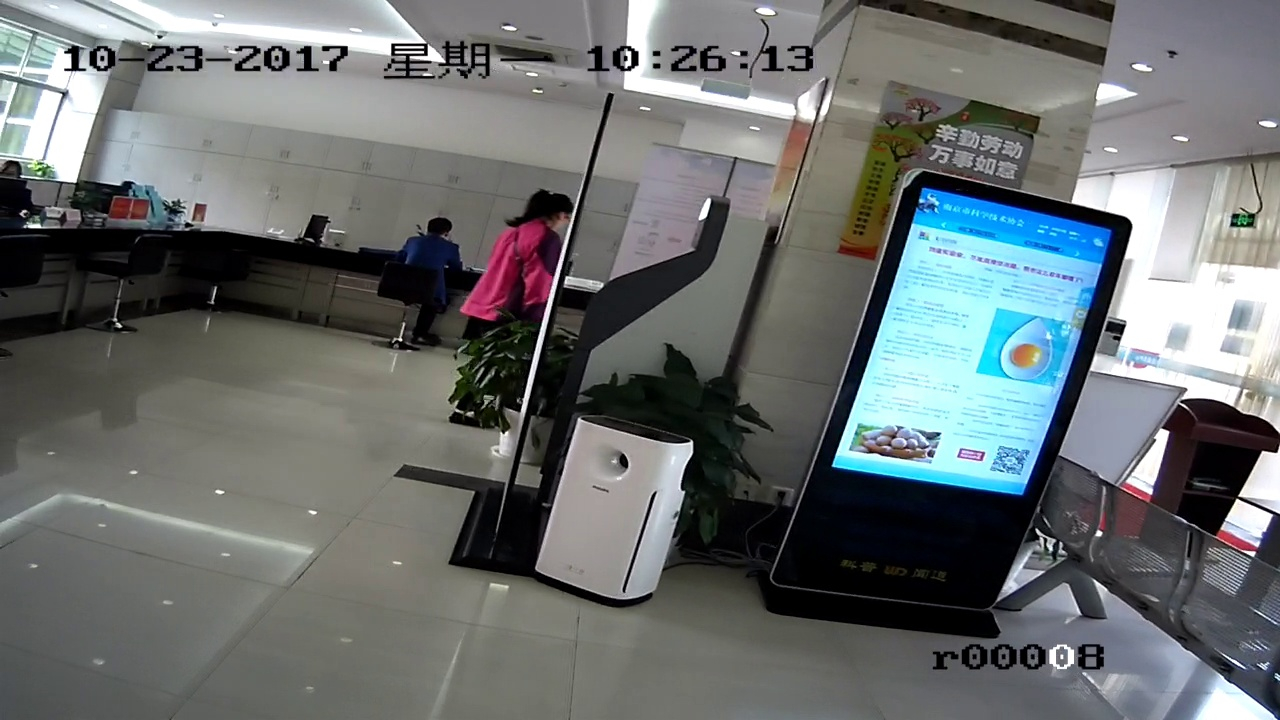chair: (83, 231, 157, 339), (372, 262, 444, 359), (195, 240, 252, 314)
desk: (1177, 388, 1280, 511)
monitor: (840, 161, 1112, 472)
person: (484, 182, 581, 309), (398, 217, 463, 271)
